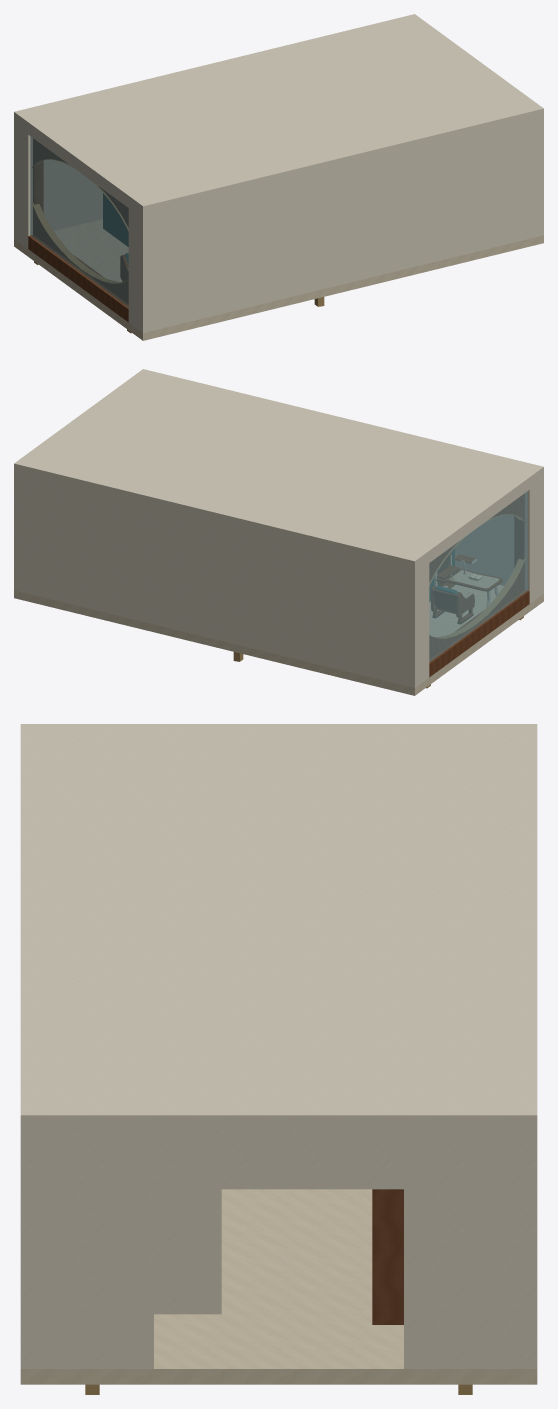
Rendered from QuietGroveBank_535_r001.glb.
The picture shows the model from 3 angles, top to bottom: view 1: azimuth 30°, elevation 25°; view 2: azimuth 150°, elevation 25°; view 3: azimuth 270°, elevation 25°; orthographic projection. The views are drawn at different scales.
Parts seen in each view (by area): view 1: QG535_Ceiling, QG535_SouthSide, QGB535_PrivateCourtGlass, QG535_RoomFloor, QG535_NorthSide, QGB535_CourtSouthPier, QGB535_CourtNorthPier, QGB535_CourtSill, QG535_OvalWindowReveal, QG535_OvalDepthReturn, QGB535_CourtHeader, QG535_Cocoon01_RearLiner (+1 smaller); view 2: QG535_Ceiling, QG535_NorthSide, QGB535_PrivateCourtGlass, QG535_RoomFloor, QG535_SouthSide, QGB535_CourtNorthPier, QGB535_CourtSouthPier, QGB535_CourtSill, QG535_OvalWindowReveal, QG535_OvalDepthReturn, QGB535_CourtHeader, QGB535_DeepReveal_-446.2 (+2 smaller); view 3: QG535_Ceiling, QG535_RoomFloor, QG535_EntryShoulderNorth, QG535_EntryShoulderSouth, QG535_EntryHeader, QG535_WashEntrySide, QG535_EntryPrivacyDogleg, QG535_NorthSide, QG535_SouthSide.
Part boxes in pixels (x1,y1,x2,y2): QG535_Ceiling: (14,14,543,211); QG535_SouthSide: (141,114,543,332); QGB535_PrivateCourtGlass: (30,136,128,307); QG535_RoomFloor: (14,219,543,340); QG535_NorthSide: (14,117,102,239); QGB535_CourtSouthPier: (128,201,150,332); QGB535_CourtNorthPier: (14,118,32,248); QGB535_CourtSill: (28,235,128,322); QG535_OvalWindowReveal: (34,139,128,303); QG535_OvalDepthReturn: (32,159,128,283); QGB535_CourtHeader: (28,128,128,207); QG535_Cocoon01_RearLiner: (104,195,128,246); QG535_Ceiling: (14,369,543,566); QG535_NorthSide: (14,469,415,687); QGB535_PrivateCourtGlass: (429,491,527,662); QG535_RoomFloor: (14,585,543,695); QG535_SouthSide: (455,472,543,594); QGB535_CourtNorthPier: (407,556,429,687); QGB535_CourtSouthPier: (525,474,541,603); QGB535_CourtSill: (429,590,529,677); QG535_OvalWindowReveal: (429,494,523,658); QG535_OvalDepthReturn: (429,514,525,638); QGB535_CourtHeader: (429,483,529,562); QGB535_DeepReveal_-446.2: (514,493,524,589); QG535_Ceiling: (20,724,537,1125); QG535_RoomFloor: (20,1189,537,1384); QG535_EntryShoulderNorth: (404,1125,528,1368); QG535_EntryShoulderSouth: (29,1125,153,1368); QG535_EntryHeader: (150,1125,407,1189); QG535_WashEntrySide: (154,1189,221,1314); QG535_EntryPrivacyDogleg: (372,1189,403,1324); QG535_NorthSide: (528,1125,537,1368); QG535_SouthSide: (20,1125,29,1368).
Size of the model in its own units: 12.9 by 4.91 by 7.2.
Materials: 67 (43 with a texture image).
